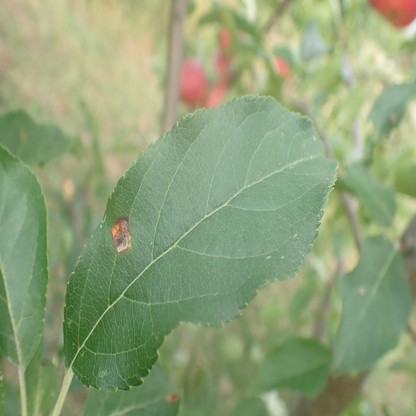rust: (110, 218, 131, 256), (167, 392, 179, 402)
